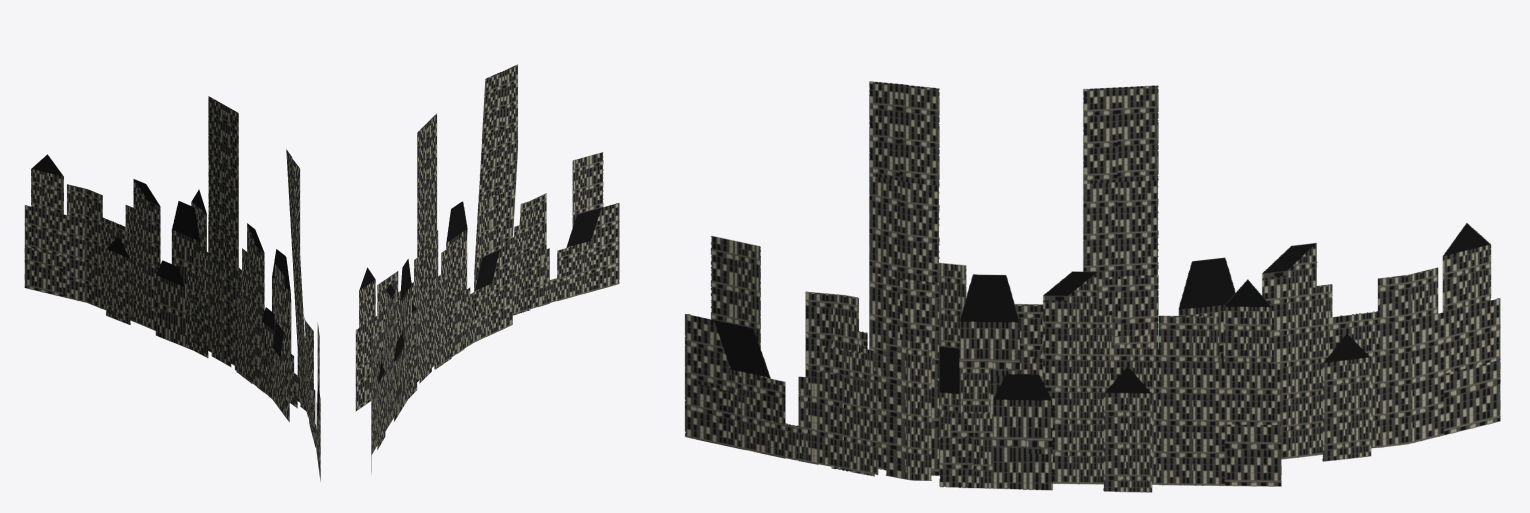
The model's file is mdl_Duc_Skyscrapers 1.0.glb.
3 views of the same model, side by side, from view 1: azimuth 30°, elevation 25°; view 2: azimuth 150°, elevation 25°; view 3: azimuth 270°, elevation 25° (orthographic). The views are drawn at different scales.
Parts seen in each view (by area): view 1: Background skyscrapers ORTHO 2.0; view 2: Background skyscrapers ORTHO 2.0; view 3: Background skyscrapers ORTHO 2.0.
Part boxes in pixels (x1=…): Background skyscrapers ORTHO 2.0: x1=24, y1=96, x2=320, y2=481; Background skyscrapers ORTHO 2.0: x1=355, y1=64, x2=619, y2=472; Background skyscrapers ORTHO 2.0: x1=685, y1=81, x2=1500, y2=492.
Size of the model in its own units: 72.92 by 204 by 380.
1 material, 1 textured.
